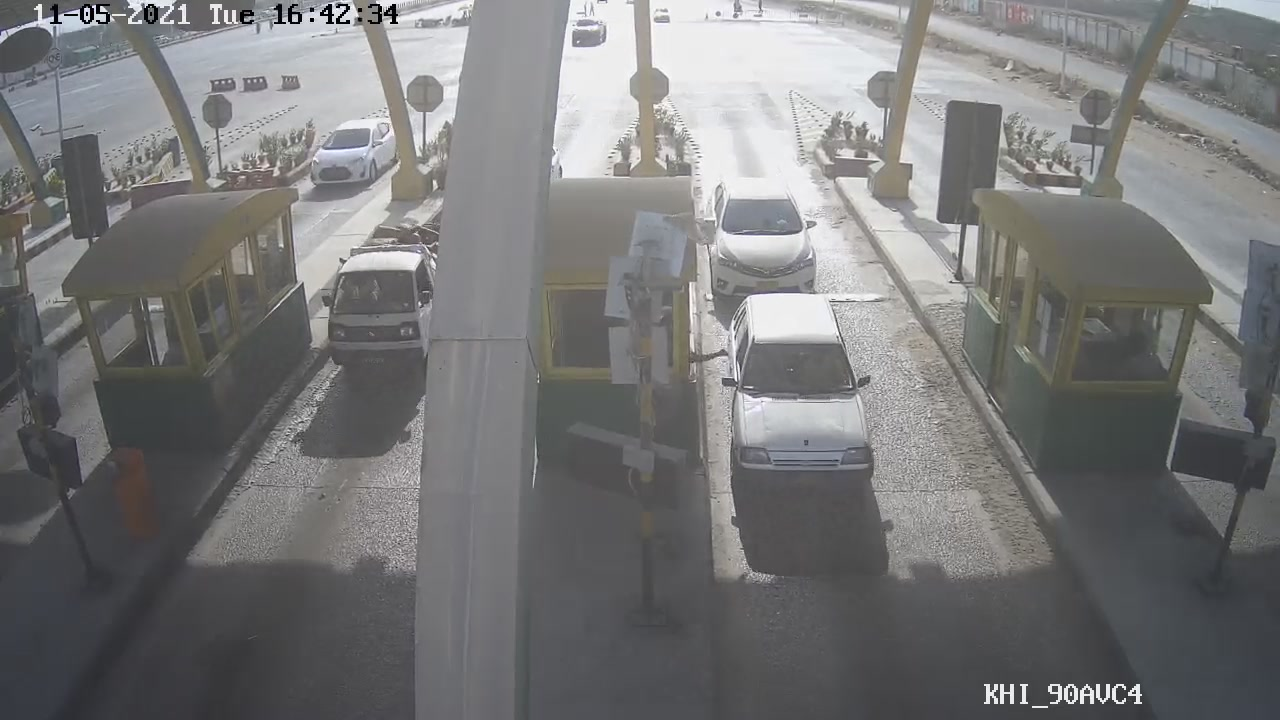F1: (715, 286, 885, 493)
